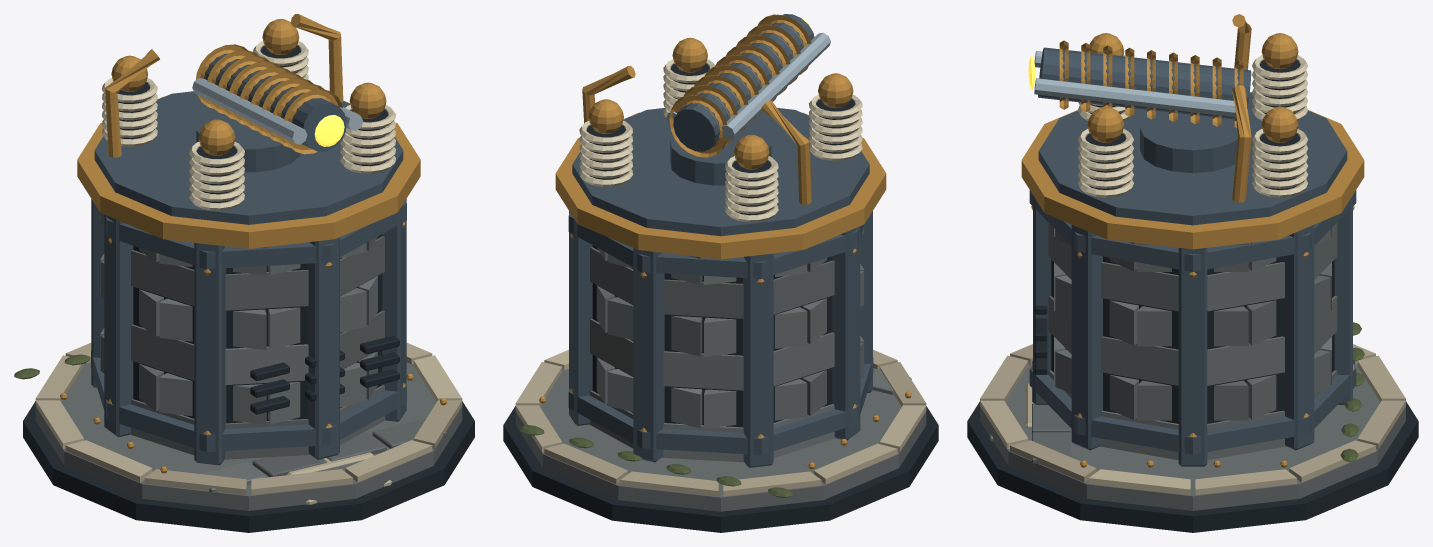
Rendered from lightning__canhao__L10.glb.
3 renders of one model, left to right at view 1: azimuth 30°, elevation 25°; view 2: azimuth 150°, elevation 25°; view 3: azimuth 270°, elevation 25°, orthographic. The views are drawn at different scales.
Parts seen in each view (by area): view 1: structure, weapon; view 2: structure, weapon; view 3: structure, weapon.
Part boxes in pixels (x1=…): structure: x1=14, y1=14, x2=474, y2=532; weapon: x1=192, y1=44, x2=363, y2=172; structure: x1=503, y1=37, x2=938, y2=532; weapon: x1=666, y1=14, x2=830, y2=185; structure: x1=967, y1=14, x2=1418, y2=532; weapon: x1=1028, y1=40, x2=1251, y2=173.
Bounding box in the file's own units: 0.8624 × 0.8317 × 0.8624.
